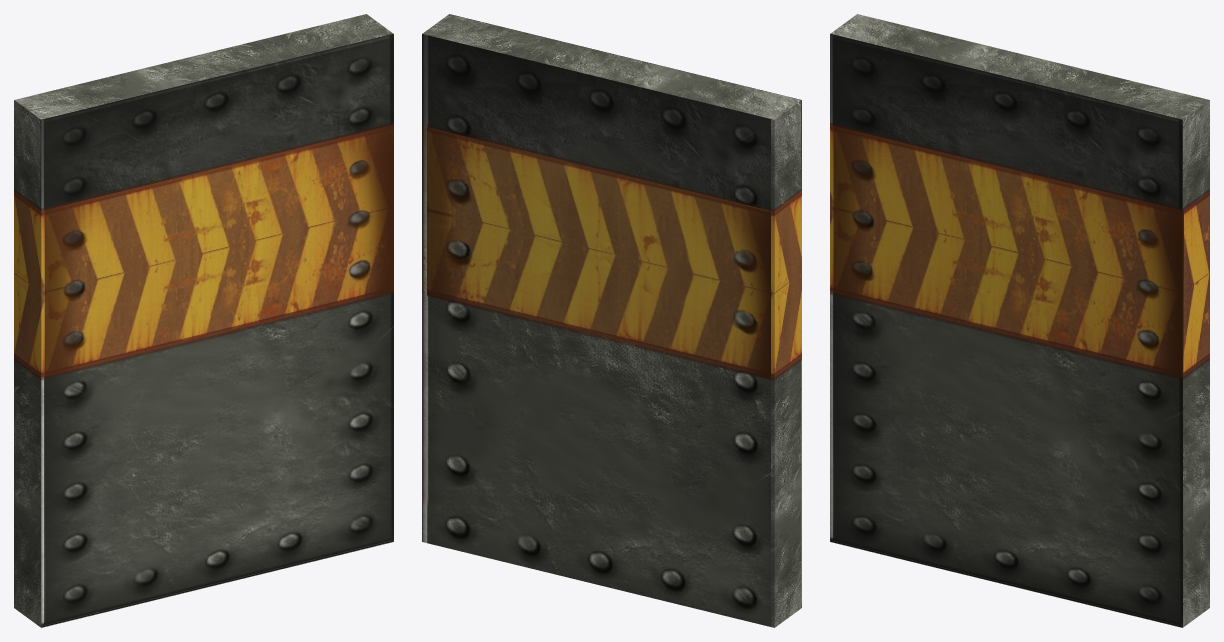
File: HeavyDoor.fbx
The picture shows the model from 3 angles, left to right: view 1: azimuth 30°, elevation 25°; view 2: azimuth 150°, elevation 25°; view 3: azimuth 330°, elevation 25°; orthographic projection.
Parts seen in each view (by area): view 1: HeavyDoor; view 2: HeavyDoor; view 3: HeavyDoor.
Boxes of the visible parts, box(x1,y1,x2,y2) form: HeavyDoor: box(14, 14, 393, 627); HeavyDoor: box(422, 14, 801, 627); HeavyDoor: box(830, 14, 1209, 627).
Size of the model in its own units: 605 by 833 by 80.83.
